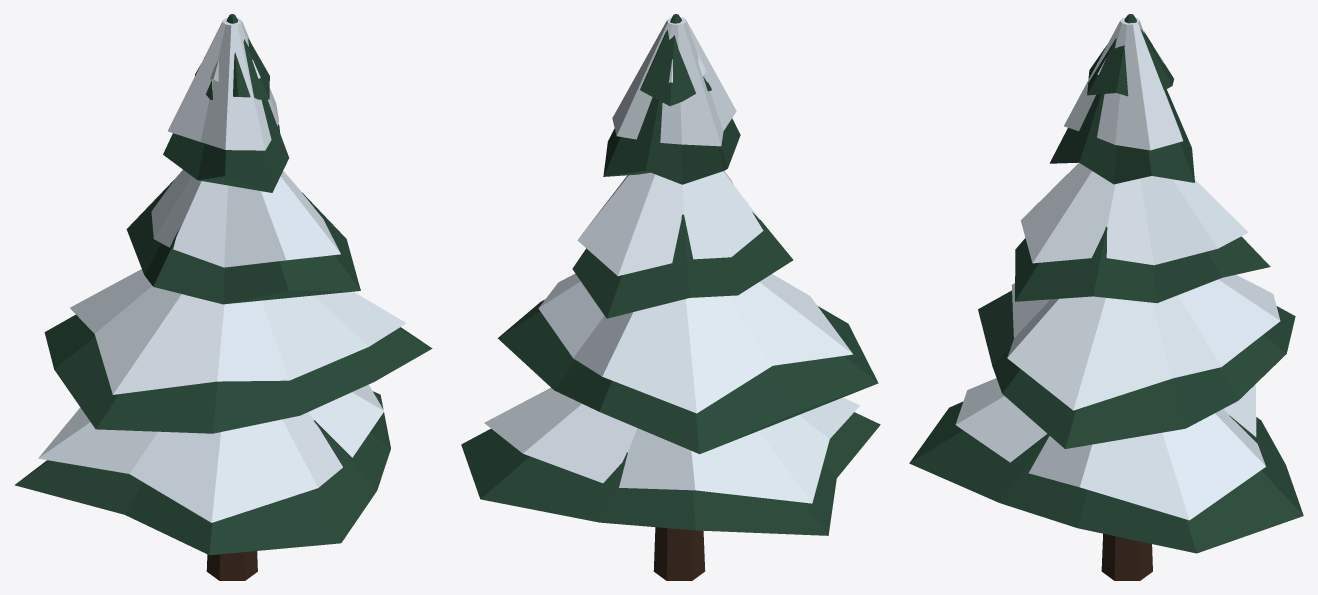
The model's file is Hut_Pine_5_0_-2.fbx.
3 views of the same model, side by side, from view 1: azimuth 30°, elevation 25°; view 2: azimuth 150°, elevation 25°; view 3: azimuth 270°, elevation 25° (orthographic).
Visible parts, largest first — view 1: Hut_Pine_5_0_-2; view 2: Hut_Pine_5_0_-2; view 3: Hut_Pine_5_0_-2.
Boxes of the visible parts, bbox=[...] form: Hut_Pine_5_0_-2: bbox=[14, 14, 432, 580]; Hut_Pine_5_0_-2: bbox=[461, 14, 880, 580]; Hut_Pine_5_0_-2: bbox=[909, 14, 1303, 580].
Size of the model in its own units: 429 by 622 by 399.
